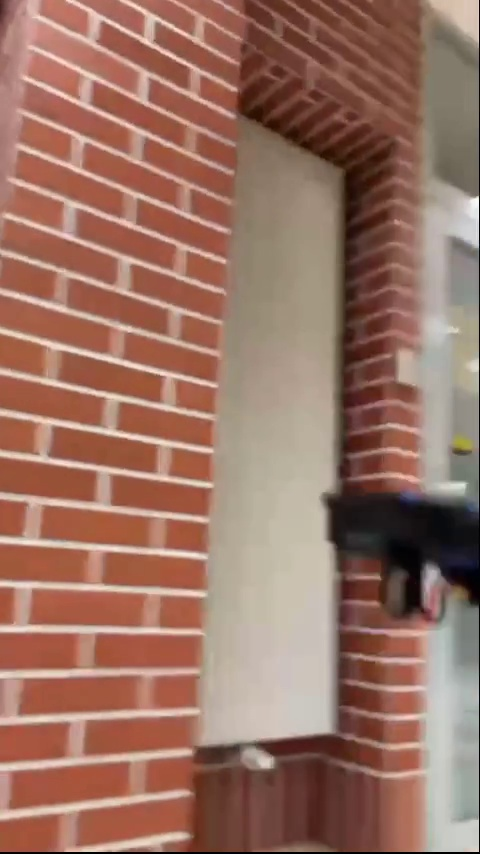drone: (312, 481, 480, 627)
